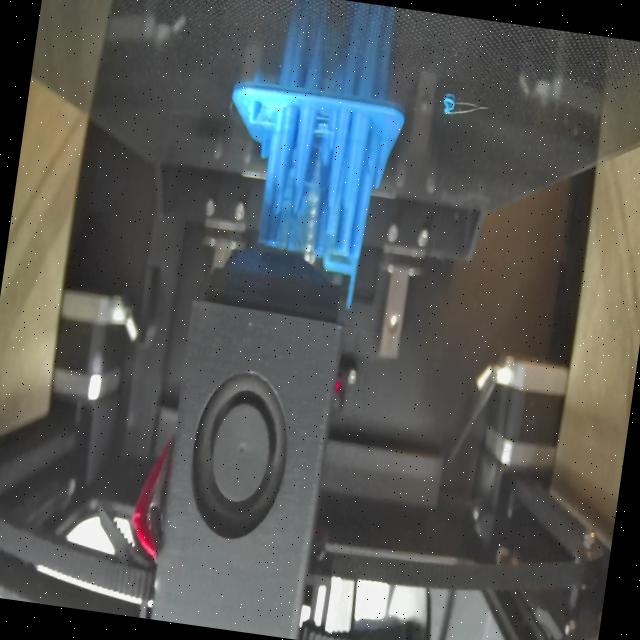stringing: (274, 215, 325, 258), (309, 108, 335, 144), (248, 108, 278, 134)
